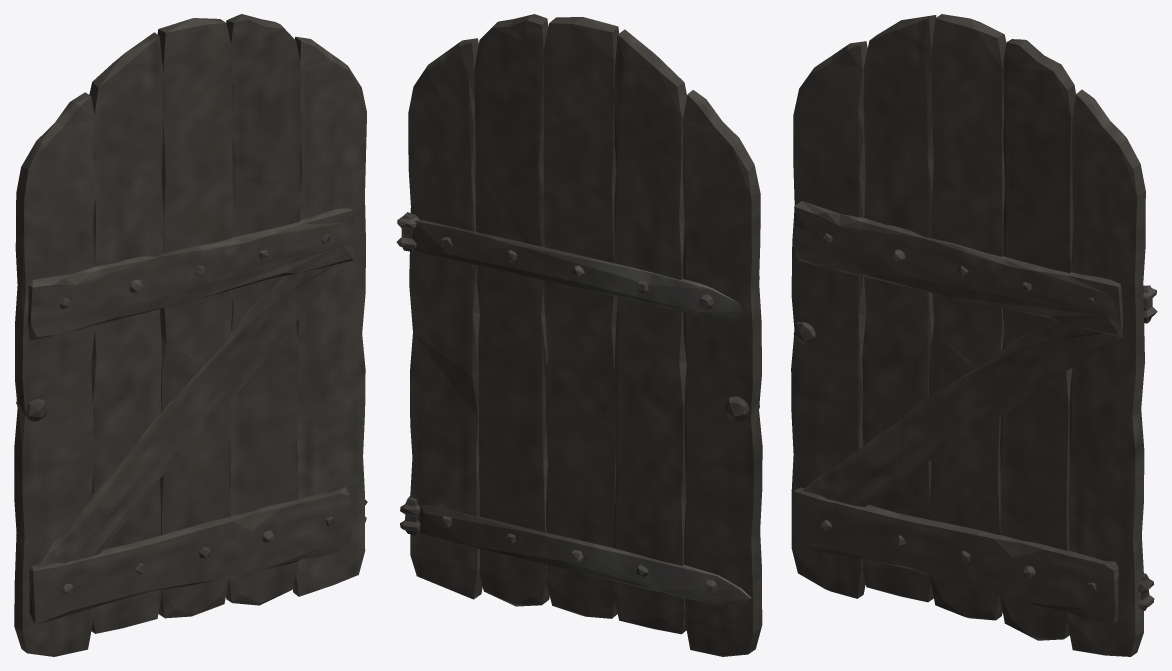
The model's file is Wood_Door_02.fbx.
The picture shows the model from 3 angles, left to right: view 1: azimuth 30°, elevation 25°; view 2: azimuth 150°, elevation 25°; view 3: azimuth 330°, elevation 25°; orthographic projection.
Visible parts, largest first — view 1: Wood_Door_02, Wood_Door_02_Metall; view 2: Wood_Door_02, Wood_Door_02_Metall; view 3: Wood_Door_02, Wood_Door_02_Metall.
Boxes of the visible parts, x1,y1,x2,y2 form: Wood_Door_02: (14, 14, 366, 656); Wood_Door_02_Metall: (16, 234, 367, 594); Wood_Door_02: (408, 14, 762, 656); Wood_Door_02_Metall: (396, 212, 759, 604); Wood_Door_02: (791, 14, 1145, 656); Wood_Door_02_Metall: (793, 233, 1157, 610).
Bounding box in the file's own units: 125 × 207 × 15.2.
